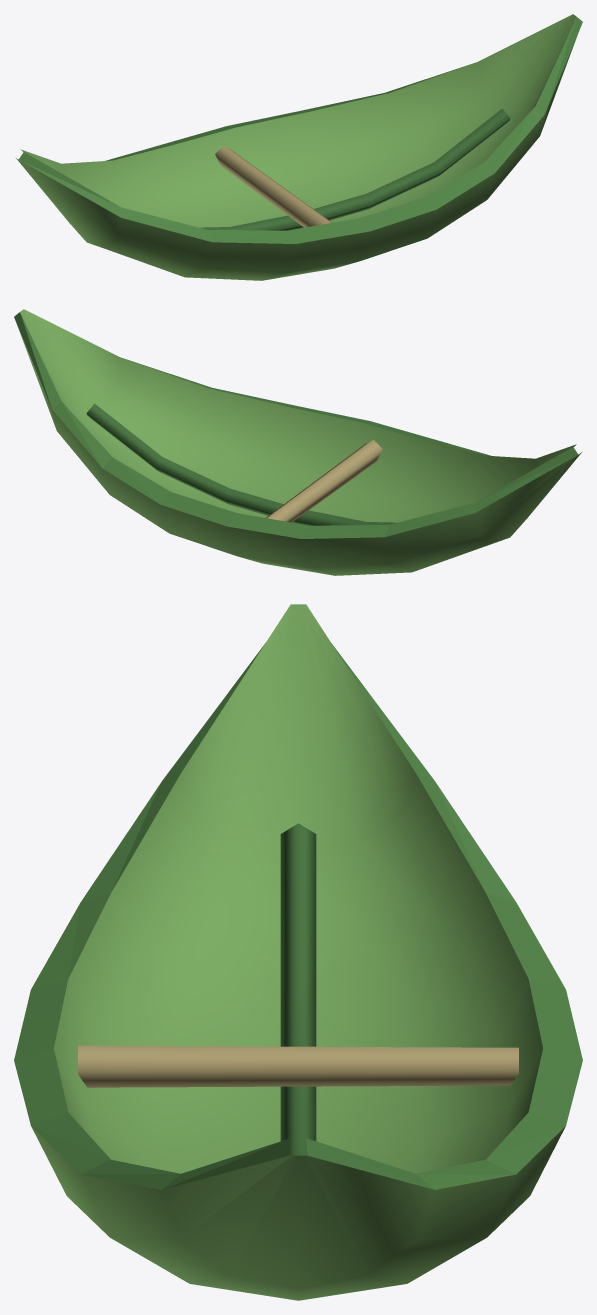
File: boat_leaf.glb
3 renders of one model, top to bottom at view 1: azimuth 30°, elevation 25°; view 2: azimuth 150°, elevation 25°; view 3: azimuth 270°, elevation 25°, orthographic. The views are drawn at different scales.
Parts seen in each view (by area): view 1: body, body_nh, body_nl; view 2: body, body_nh, body_nl; view 3: body, body_nl, body_nh.
Part boxes in pixels (bbox=[...]): body: bbox=[15, 14, 582, 280]; body_nh: bbox=[200, 108, 510, 230]; body_nl: bbox=[215, 146, 331, 227]; body: bbox=[14, 309, 581, 575]; body_nh: bbox=[86, 403, 396, 525]; body_nl: bbox=[266, 440, 382, 522]; body: bbox=[14, 604, 582, 1300]; body_nl: bbox=[78, 1045, 518, 1087]; body_nh: bbox=[280, 823, 316, 1155].
Bounding box in the file's own units: 1.45 × 0.415 × 0.64.
